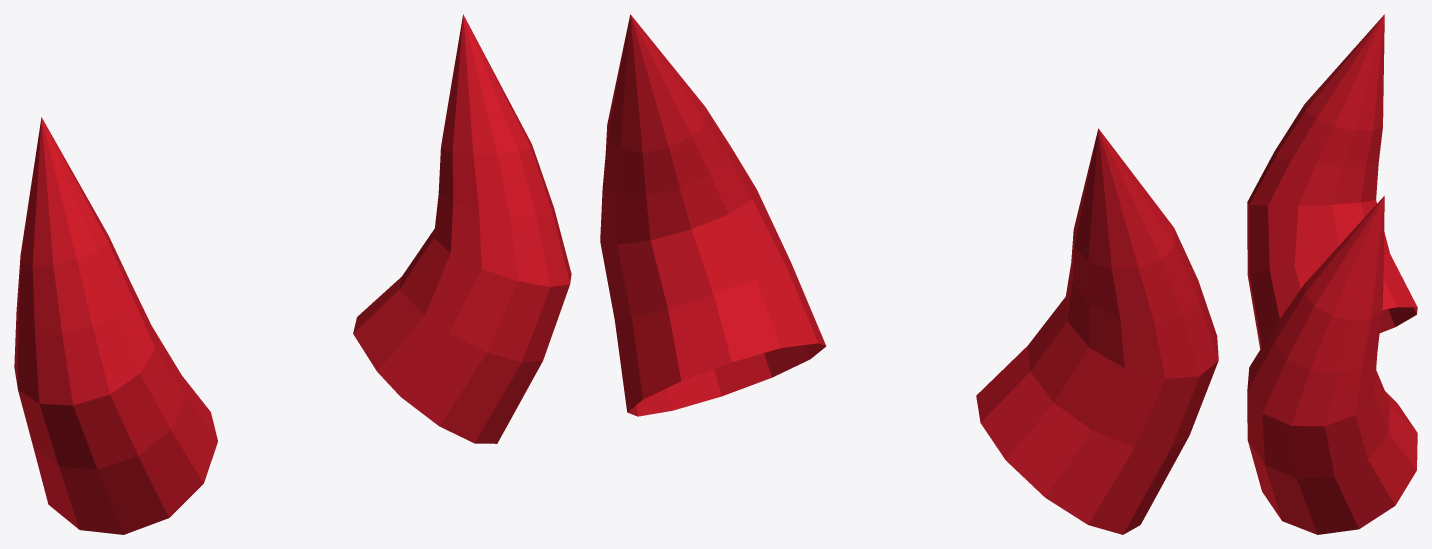
Rendered from Horn.fbx.
The picture shows the model from 3 angles, left to right: view 1: azimuth 30°, elevation 25°; view 2: azimuth 150°, elevation 25°; view 3: azimuth 270°, elevation 25°; orthographic projection. The views are drawn at different scales.
Parts seen in each view (by area): view 1: Horn1; view 2: Horn1; view 3: Horn1.
Part boxes in pixels (left/top/right/bottom): Horn1: left=14, top=14, right=571, bottom=534; Horn1: left=600, top=14, right=1218, bottom=534; Horn1: left=1247, top=14, right=1417, bottom=534.
Size of the model in its own units: 5728 by 3930 by 1788.
